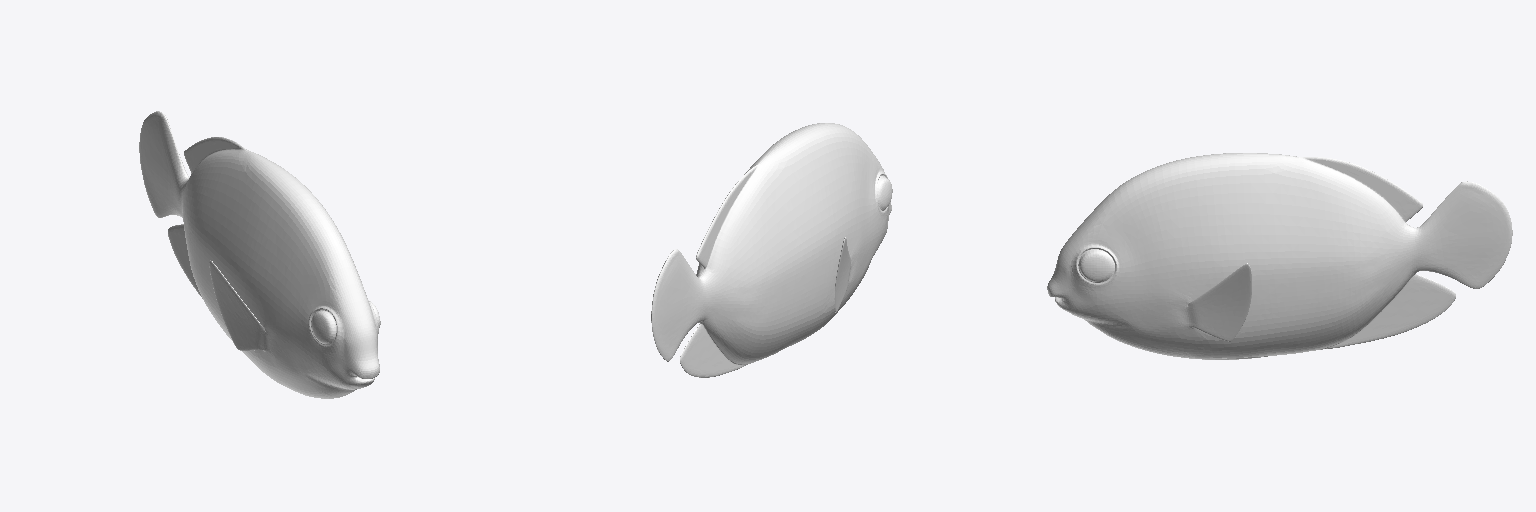
Rendered from coralFish.obj.
3 renders of one model, left to right at view 1: azimuth 30°, elevation 25°; view 2: azimuth 150°, elevation 25°; view 3: azimuth 270°, elevation 25°, orthographic.
Parts seen in each view (by area): view 1: 13009_Coral_Beauty_Angelfish_v1_l3; view 2: 13009_Coral_Beauty_Angelfish_v1_l3; view 3: 13009_Coral_Beauty_Angelfish_v1_l3.
Part boxes in pixels (bbox=[...]): 13009_Coral_Beauty_Angelfish_v1_l3: bbox=[139, 111, 380, 398]; 13009_Coral_Beauty_Angelfish_v1_l3: bbox=[651, 123, 892, 377]; 13009_Coral_Beauty_Angelfish_v1_l3: bbox=[1047, 153, 1512, 359].
Size of the model in its own units: 0.369 by 0.5801 by 1.2.